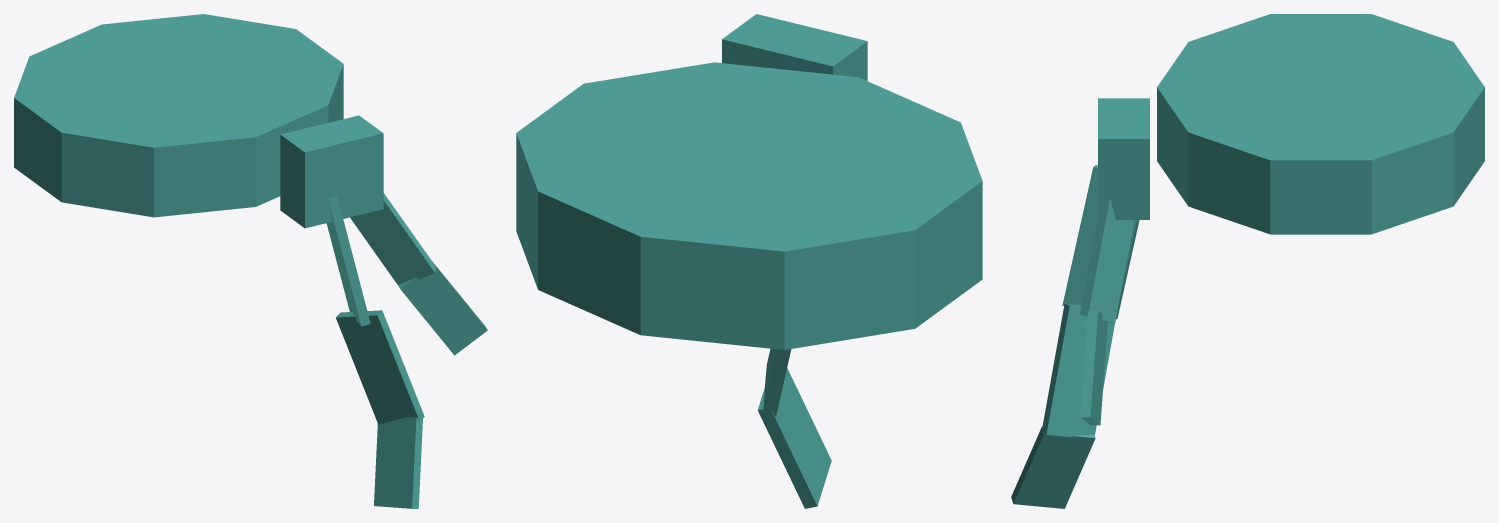
Rendered from gear_tti_t2.glb.
3 renders of one model, left to right at view 1: azimuth 30°, elevation 25°; view 2: azimuth 150°, elevation 25°; view 3: azimuth 270°, elevation 25°, orthographic. The views are drawn at different scales.
Parts seen in each view (by area): view 1: gear_tti_t2; view 2: gear_tti_t2; view 3: gear_tti_t2.
Boxes of the visible parts, x1,y1,x2,y2 form: gear_tti_t2: [14, 14, 487, 508]; gear_tti_t2: [516, 14, 982, 508]; gear_tti_t2: [1011, 14, 1484, 508].
Bounding box in the file's own units: 0.5599 × 0.5635 × 0.6374.
